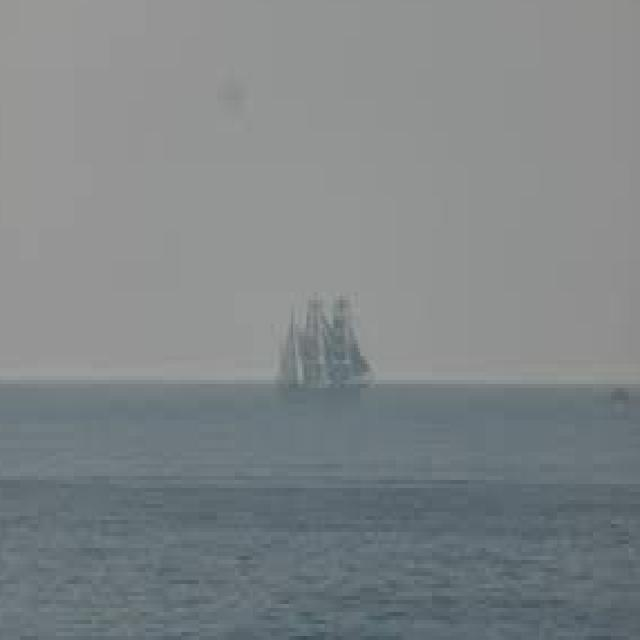fishing boat: (271, 285, 374, 393)
